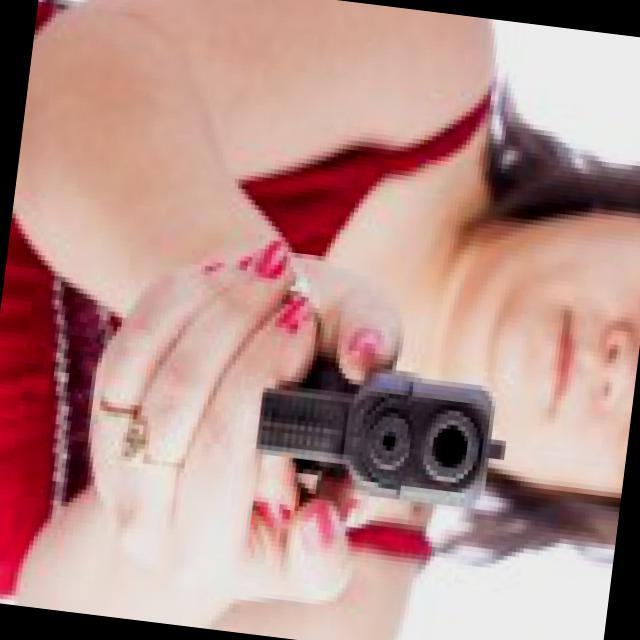handgun: (246, 334, 548, 520)
